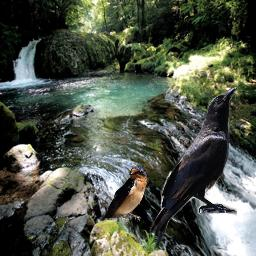Crow: (149, 86, 237, 246)
Swallow: (102, 166, 147, 224)
